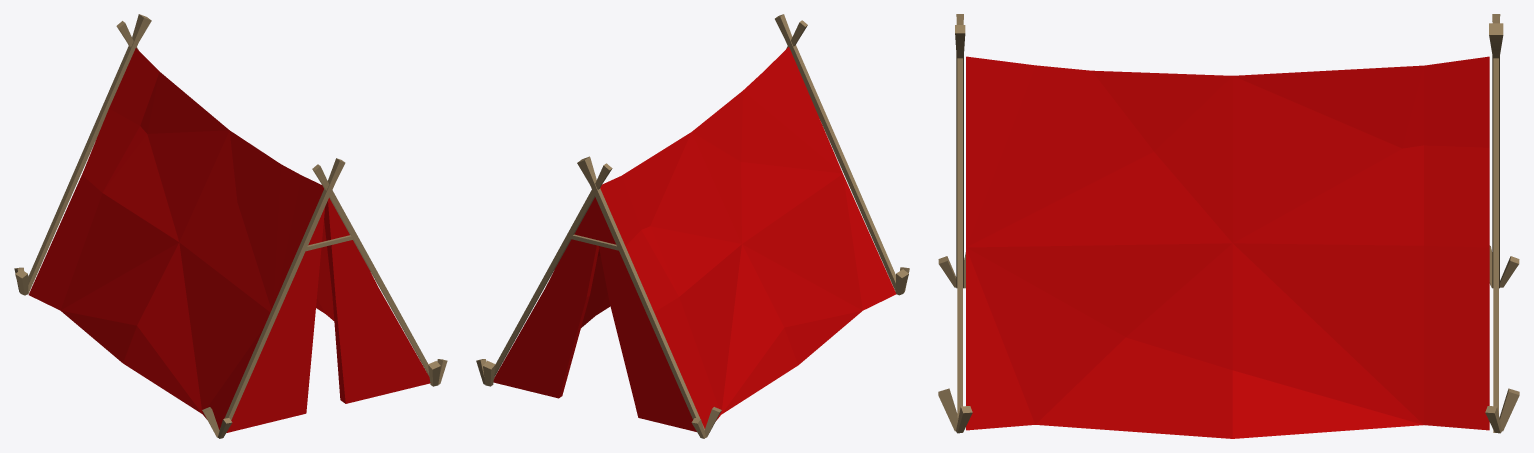
Rendered from model_polytope_tent01.fbx.
3 renders of one model, left to right at view 1: azimuth 30°, elevation 25°; view 2: azimuth 150°, elevation 25°; view 3: azimuth 270°, elevation 25°, orthographic. The views are drawn at different scales.
Visible parts, largest first — view 1: model_polytope_tent01; view 2: model_polytope_tent01; view 3: model_polytope_tent01.
Part boxes in pixels (x1,y1,x2,y2): model_polytope_tent01: (14,14,447,438); model_polytope_tent01: (476,14,909,438); model_polytope_tent01: (938,14,1519,438).
Bounding box in the file's own units: 249 × 246 × 380.
